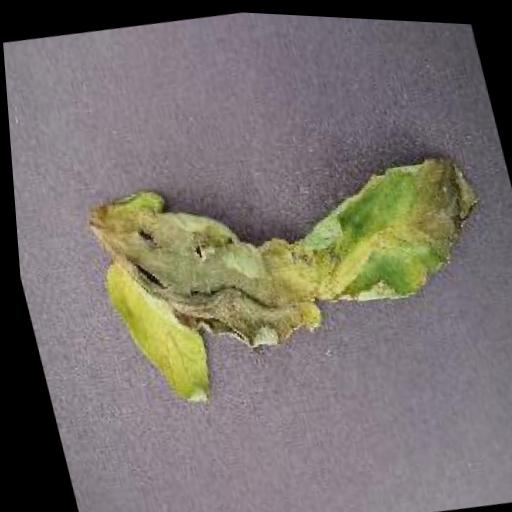Late Blight: (71, 125, 512, 429)
